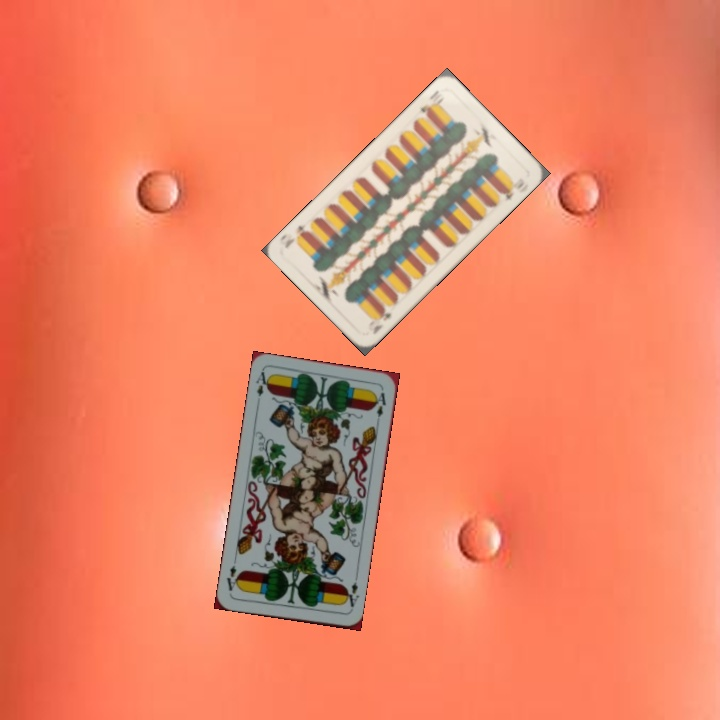E10: (416, 86, 447, 118), (368, 304, 394, 337)
EA: (340, 572, 361, 613), (252, 367, 272, 399)
